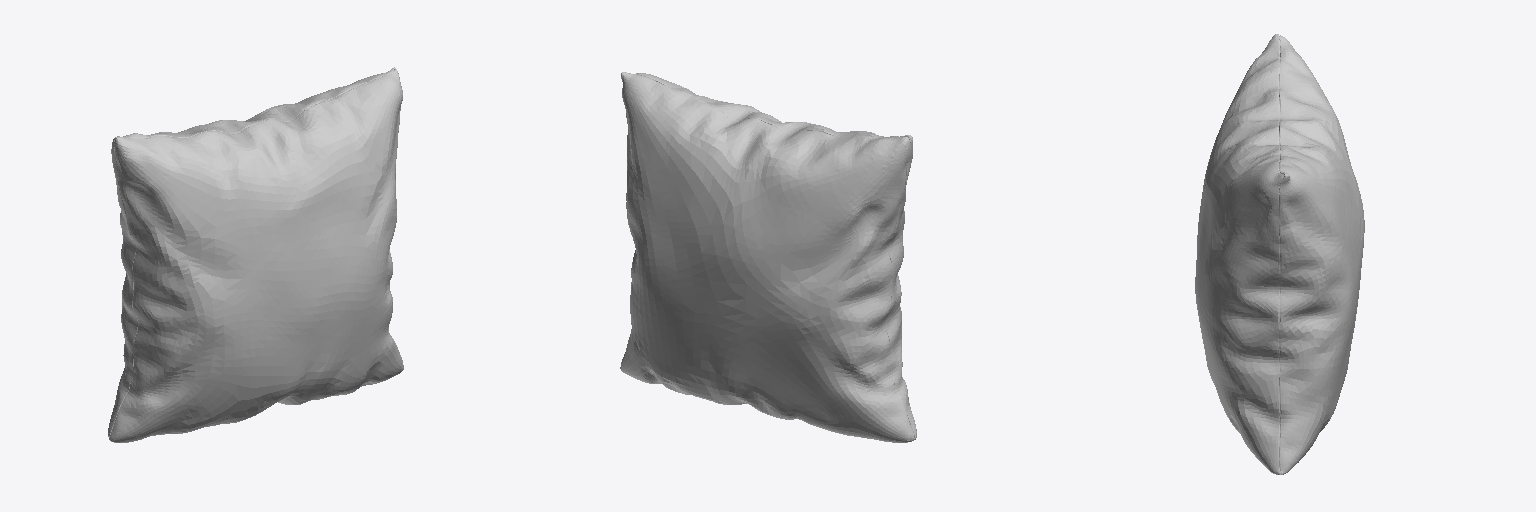
File: Pillow_lowpoly.obj
3 renders of one model, left to right at view 1: azimuth 30°, elevation 25°; view 2: azimuth 150°, elevation 25°; view 3: azimuth 270°, elevation 25°, orthographic.
Visible parts, largest first — view 1: Pillow_high_poly_Cube_032; view 2: Pillow_high_poly_Cube_032; view 3: Pillow_high_poly_Cube_032.
Part boxes in pixels (x1,y1,x2,y2): Pillow_high_poly_Cube_032: (108, 67, 403, 442); Pillow_high_poly_Cube_032: (620, 72, 916, 442); Pillow_high_poly_Cube_032: (1195, 34, 1364, 474).
Bounding box in the file's own units: 0.3998 × 0.3999 × 0.1999.